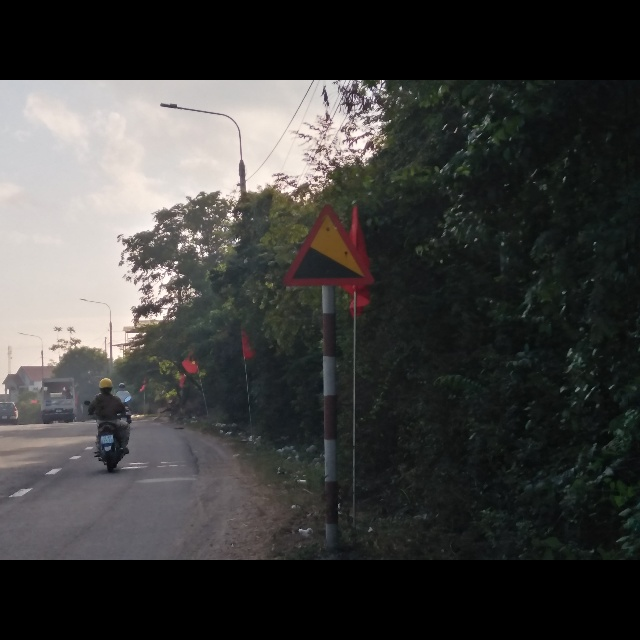Dốc lên nguy hiểm: (279, 203, 370, 289)
